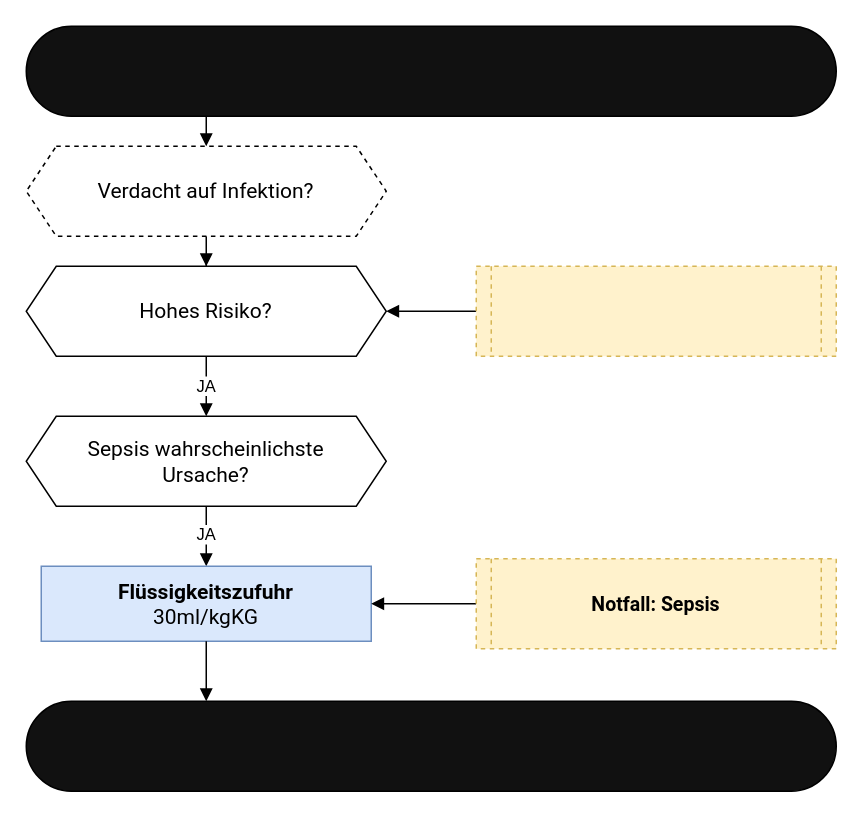
This 863x818 diagram has some shape labels left out. Here are the shapes that lost their labels. From the top down, the centre of each, then its label:
the point at 430,70: Sepsis
the point at 655,310: Score: Sepsis (NEWS2)
the point at 430,745: Transport in Klinik explizit Sepsis-Verdacht übergeben
